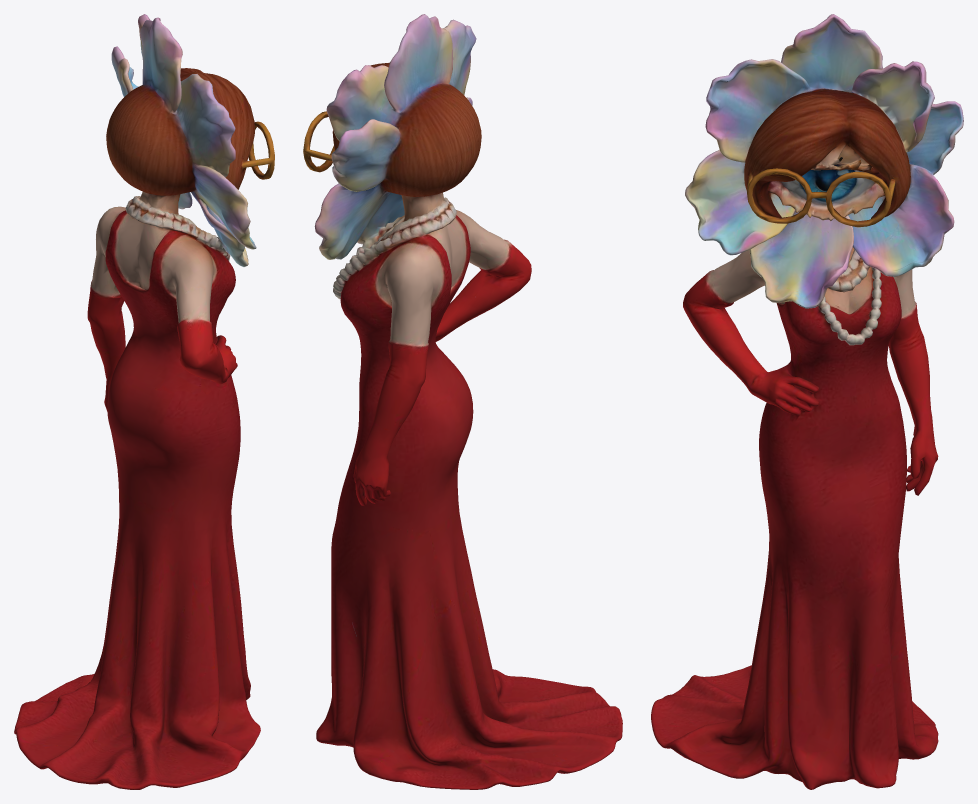
Rendered from actress.glb.
The picture shows the model from 3 angles, left to right: view 1: azimuth 30°, elevation 25°; view 2: azimuth 150°, elevation 25°; view 3: azimuth 270°, elevation 25°; orthographic projection. The views are drawn at different scales.
Visible parts, largest first — view 1: tripo_node_058a3aab-caec-415b-b0f7-e44096bb8c06; view 2: tripo_node_058a3aab-caec-415b-b0f7-e44096bb8c06; view 3: tripo_node_058a3aab-caec-415b-b0f7-e44096bb8c06.
Part boxes in pixels (x1=…): tripo_node_058a3aab-caec-415b-b0f7-e44096bb8c06: x1=14, y1=14, x2=274, y2=789; tripo_node_058a3aab-caec-415b-b0f7-e44096bb8c06: x1=303, y1=14, x2=622, y2=789; tripo_node_058a3aab-caec-415b-b0f7-e44096bb8c06: x1=651, y1=14, x2=963, y2=789.
Size of the model in its own units: 0.359 by 1 by 0.3855.
1 material, 1 textured.
